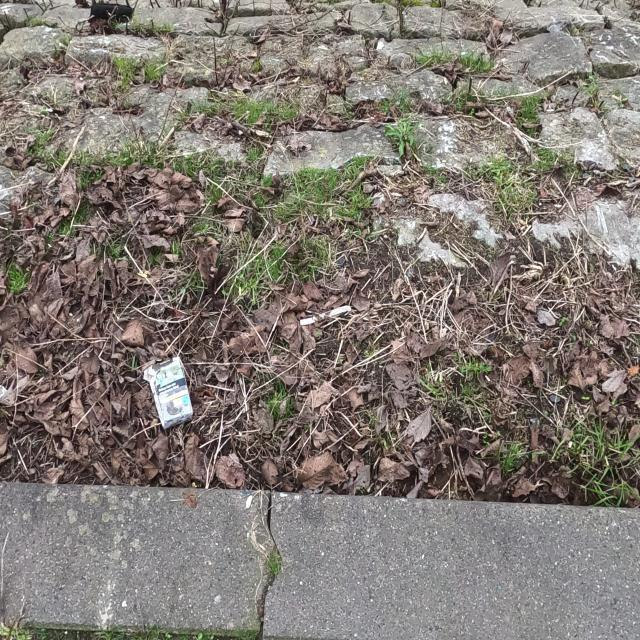Paper: (141, 354, 194, 430)
